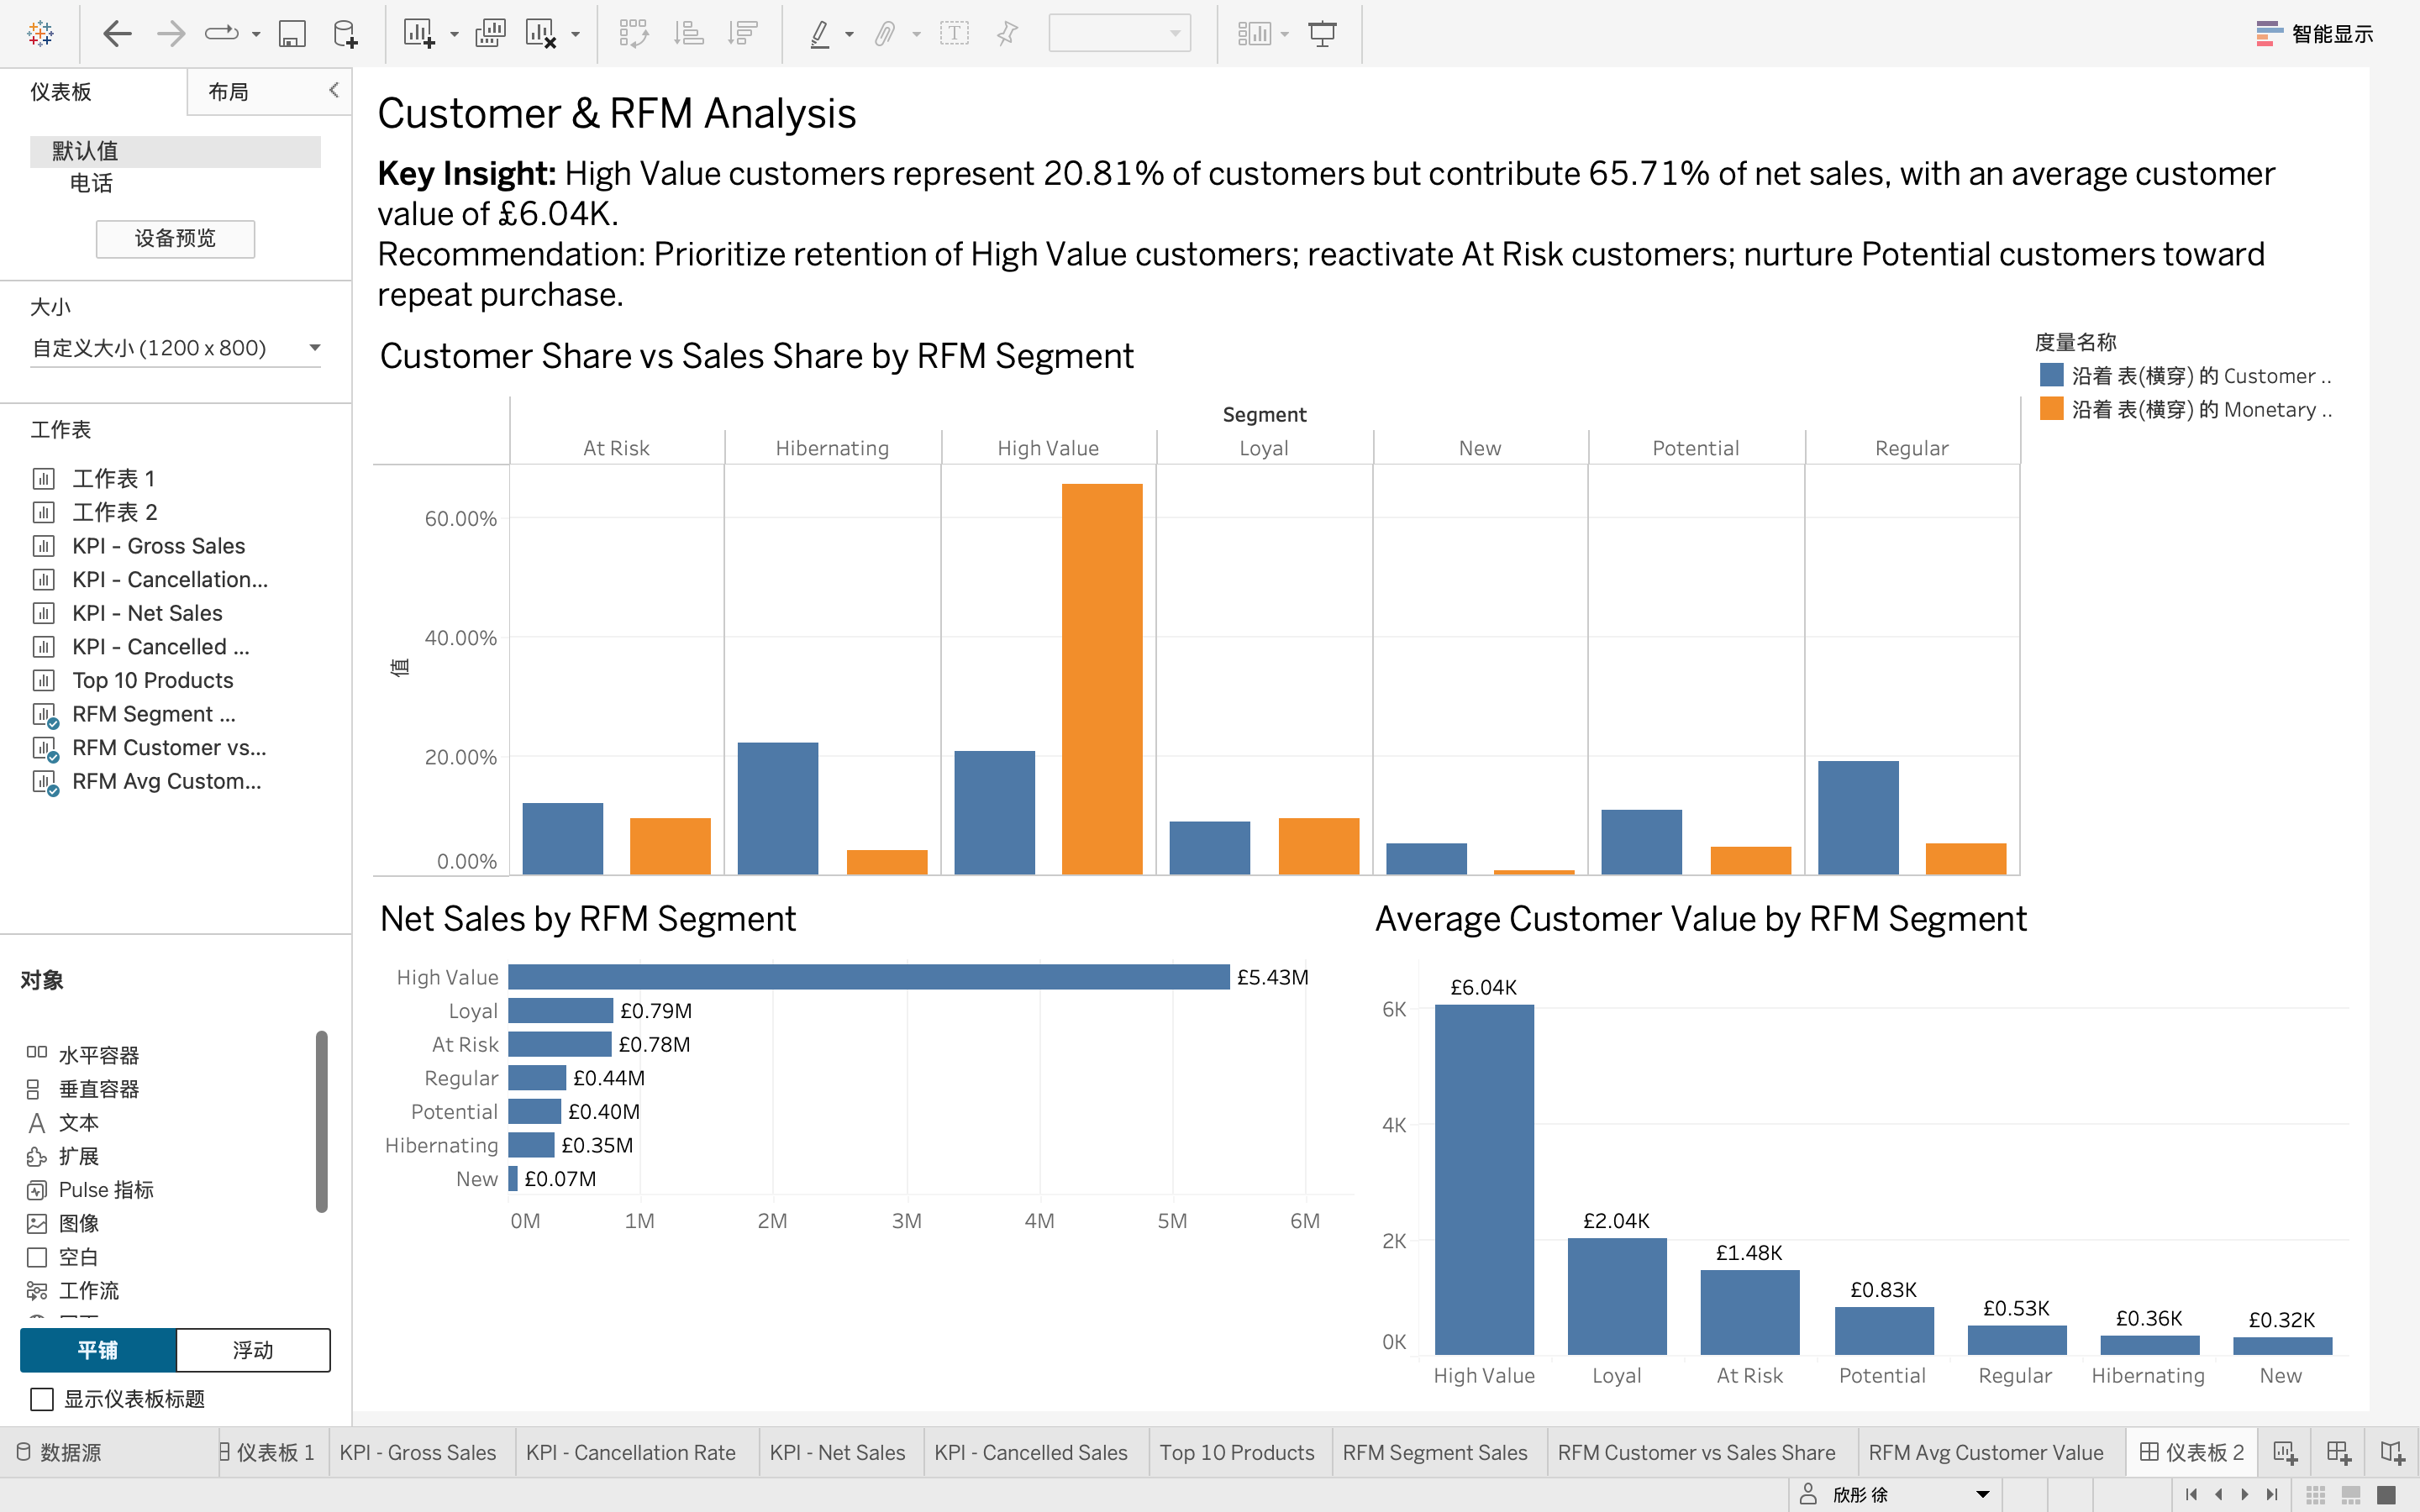

The page's visual inventory and layout, read from the dashboard file:
{"tool":"tableau","page":{"name":"仪表板 2","canvas":[1200,800],"ordinal":1},"visuals":[{"type":"title","box":[8,8,1024,39]},{"type":"legend","title":"RFM Customer vs Sales Share","param":"[federated.0zvwd9q0k2lefv10chl0902kvlz9].[:Measure Names]","box":[1032,8,160,66]},{"type":"text","box":[8,47,1024,104]},{"type":"worksheet","title":"RFM Customer vs Sales Share","mark":"Automatic","cols":["Segment"],"box":[8,151,1024,334.7]},{"type":"worksheet","title":"RFM Segment Sales","mark":"Bar","rows":["Segment"],"cols":["Monetary"],"box":[8,485.7,512,306.3]},{"type":"worksheet","title":"RFM Avg Customer Value","mark":"Bar","rows":["Monetary"],"cols":["Segment"],"box":[520,485.7,512,306.3]}]}

Visuals, with their boxes on the page's 1200x800 design canvas (x1, y1, x2, y2). These are canvas units, not pixel positions in the 2420x1512 screenshot, which may show the page scaled, cropped or inside an application window:
title: 8:8:1032:47
"RFM Customer vs Sales Share" legend: 1032:8:1192:74
text: 8:47:1032:151
"RFM Customer vs Sales Share" worksheet: 8:151:1032:486
"RFM Segment Sales" worksheet (Bar marks): 8:486:520:792
"RFM Avg Customer Value" worksheet (Bar marks): 520:486:1032:792
